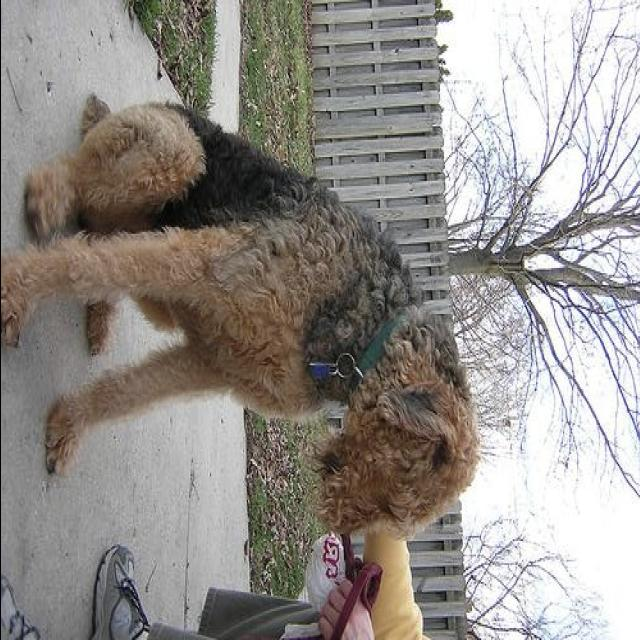airedale: (4, 101, 484, 536)
